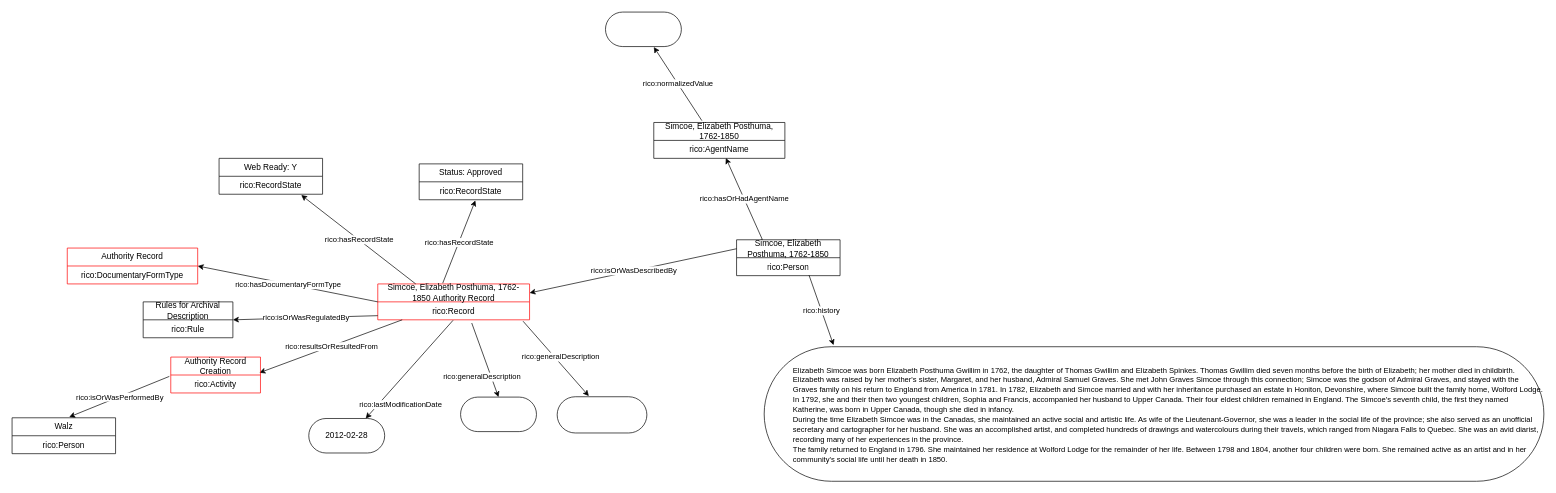
The diagram is 1556 pixels wide and 493 high, and some of its shapes have lost their labels. Here are the shapes that lost their labels. From the top down, the centre of each, then its label:
(x=643, y=29): Elizabeth Posthuma Simcoe
(x=498, y=414): Source Note: Archives of Ontario, fonds 47.
(x=601, y=414): Source Note: Dictionary of Canadian Biography.
